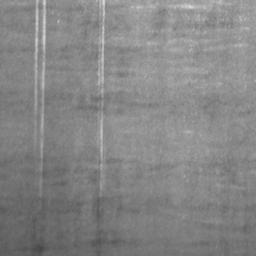Bright scratch: (35, 0, 47, 159), (99, 0, 105, 88)
